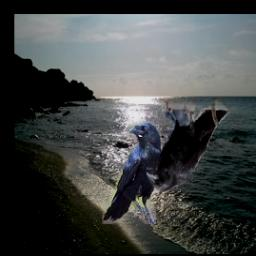Crow: (146, 98, 230, 193), (101, 121, 167, 225)
